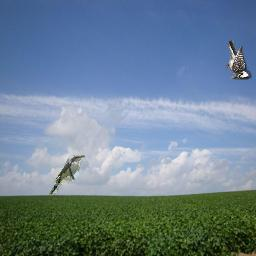Cuckoo: (49, 155, 85, 195)
Woodpecker: (224, 40, 252, 80)
